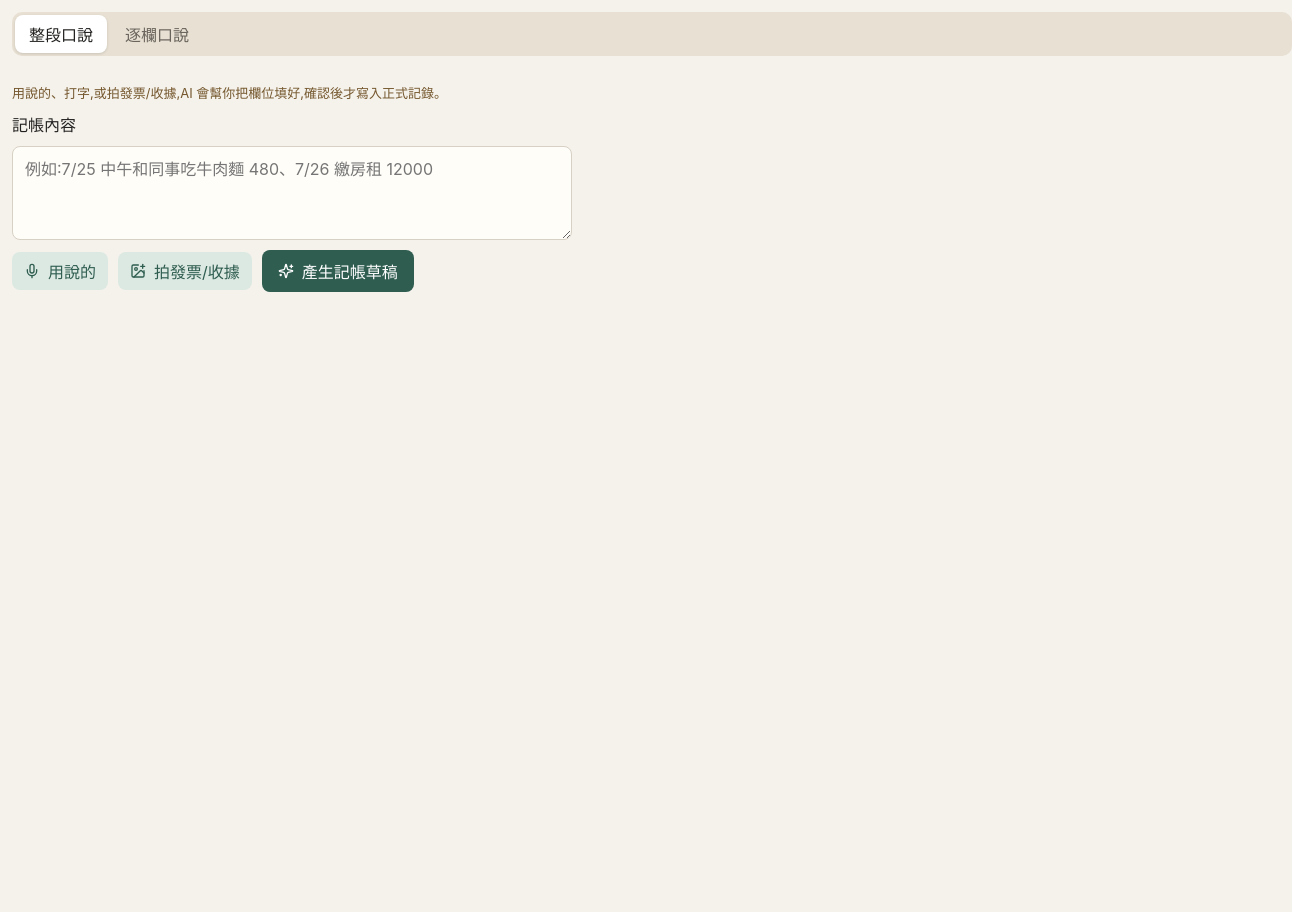
Scenario: AiLedgerPanel › switches to the step-by-step mode B panel
Click the tab "逐欄口說": (157, 34) 111,15 -> 203,53
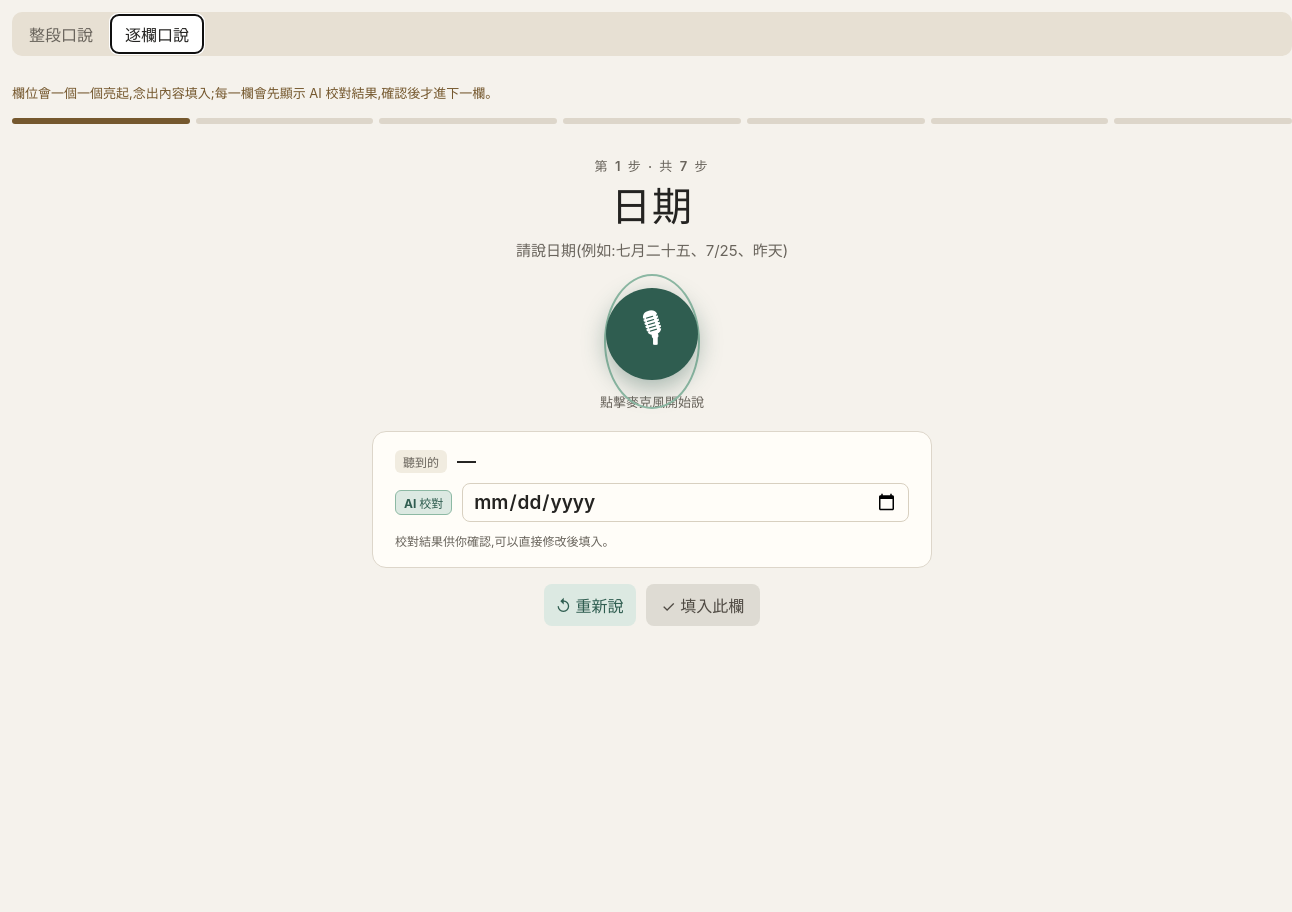
Expected: the text "欄位會一個一個亮起,念出內容填入;每一欄會先顯示 AI 校對結果,確認後才進下一欄。" is shown, 12,85 -> 498,101
Expected: the date field named "日期" is shown, 462,483 -> 909,522
